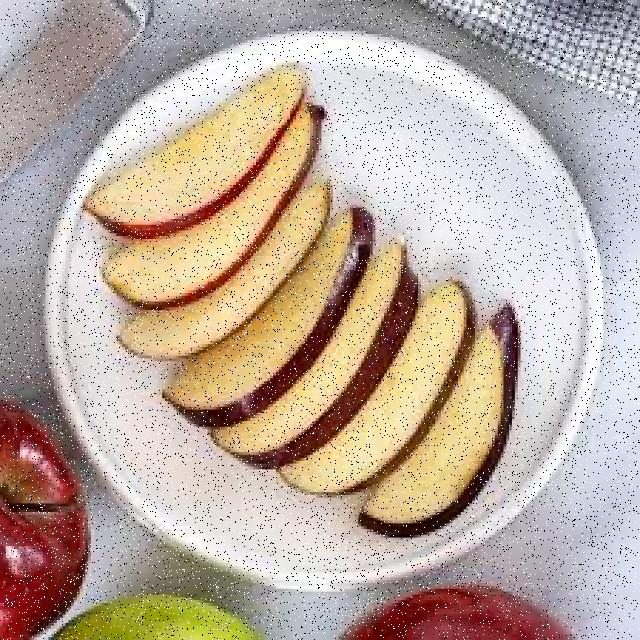Apple: (208, 236, 425, 470), (153, 206, 377, 432), (98, 105, 326, 308), (278, 279, 481, 506), (70, 62, 306, 240), (113, 177, 336, 361), (360, 302, 518, 543)
